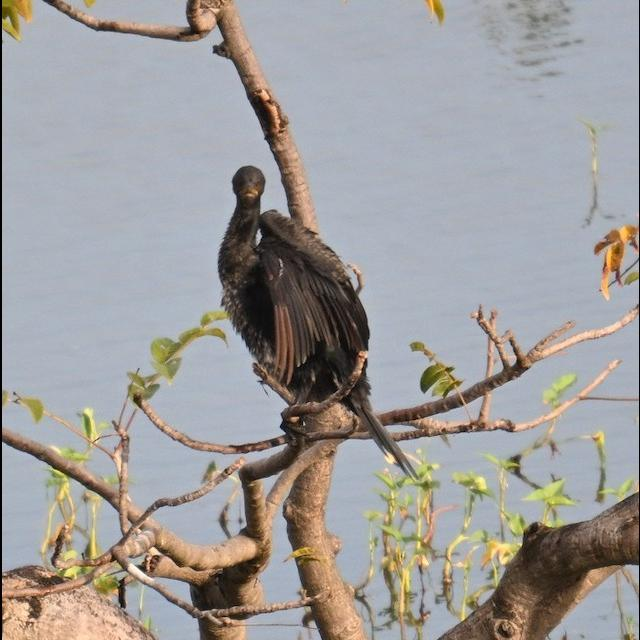cormorant: (212, 163, 392, 431)
